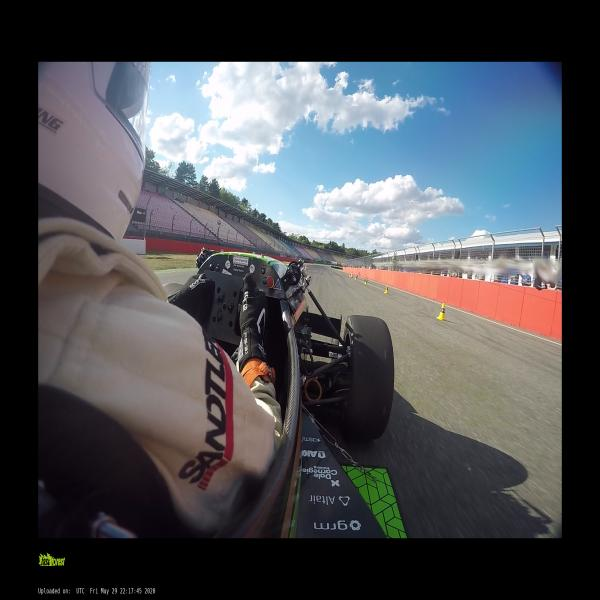large_orange_cone: (350, 272, 353, 278)
yellow_cone: (436, 302, 446, 321), (384, 285, 388, 293), (348, 272, 351, 278), (364, 278, 367, 284), (354, 275, 357, 280)
